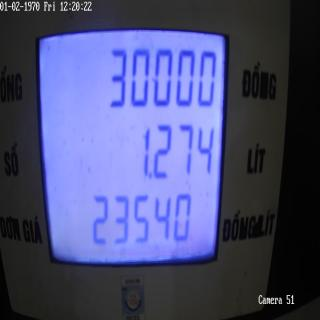screen: (32, 6, 232, 290)
